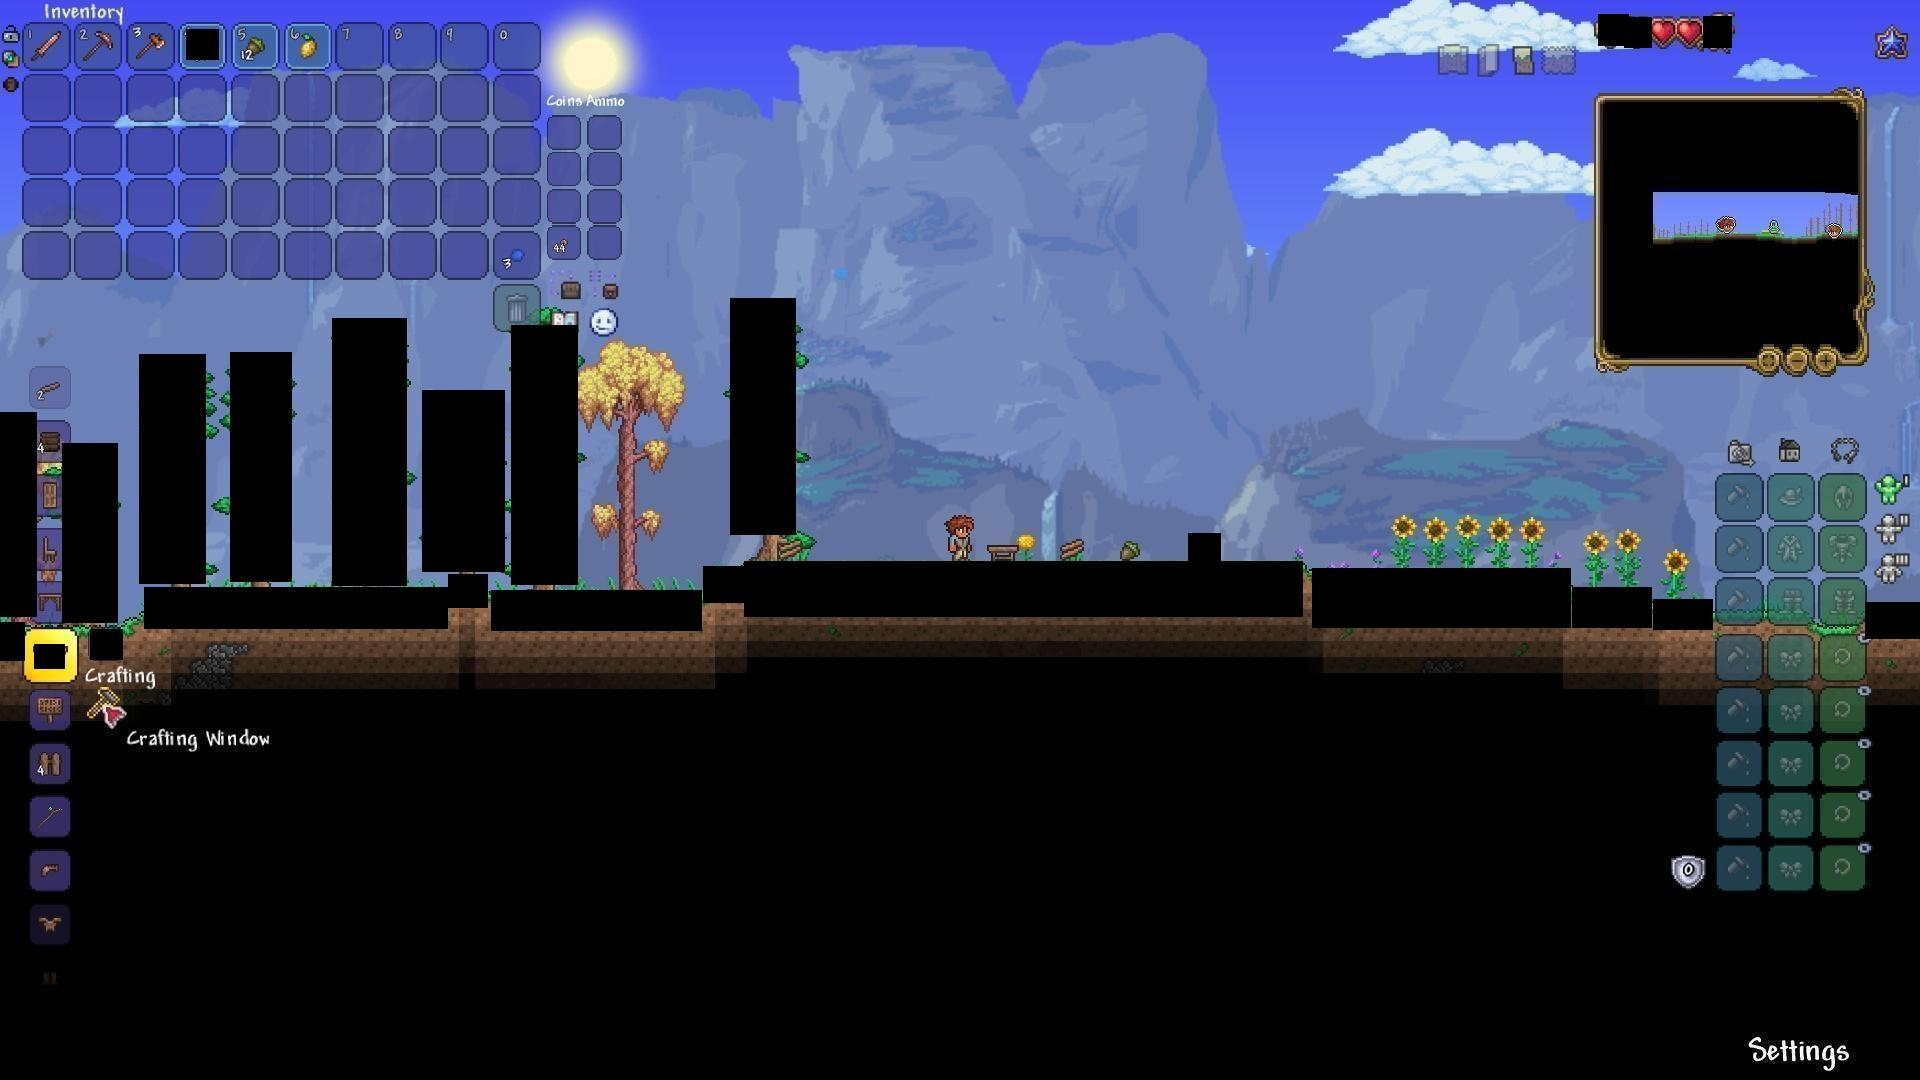breastplate: (36, 913, 65, 934)
heart: (1648, 17, 1676, 47), (1676, 17, 1704, 47)
helmet: (34, 853, 65, 881)
tree: (576, 331, 684, 587)
wood: (1058, 535, 1091, 564), (775, 535, 808, 564)
workbench: (982, 541, 1019, 564)
